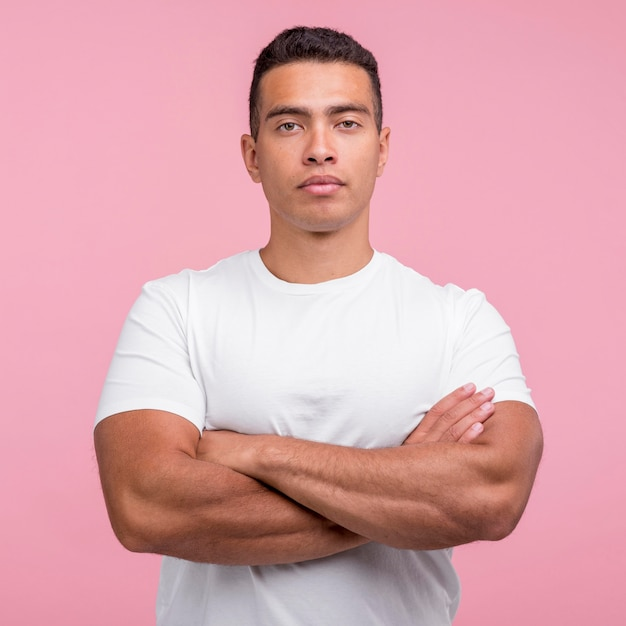young: (243, 9, 399, 248)
